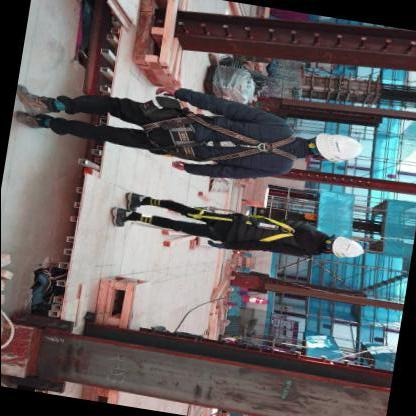Helmet: (307, 122, 361, 173), (325, 234, 363, 265)
safety-shoe: (13, 81, 52, 115), (11, 111, 49, 132), (123, 190, 152, 214), (107, 202, 131, 230)
